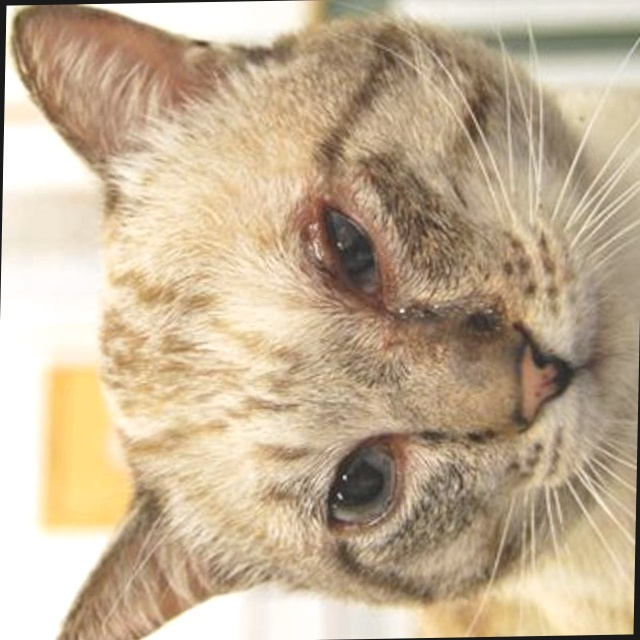eye_infection: (316, 429, 408, 539), (308, 198, 394, 310)
